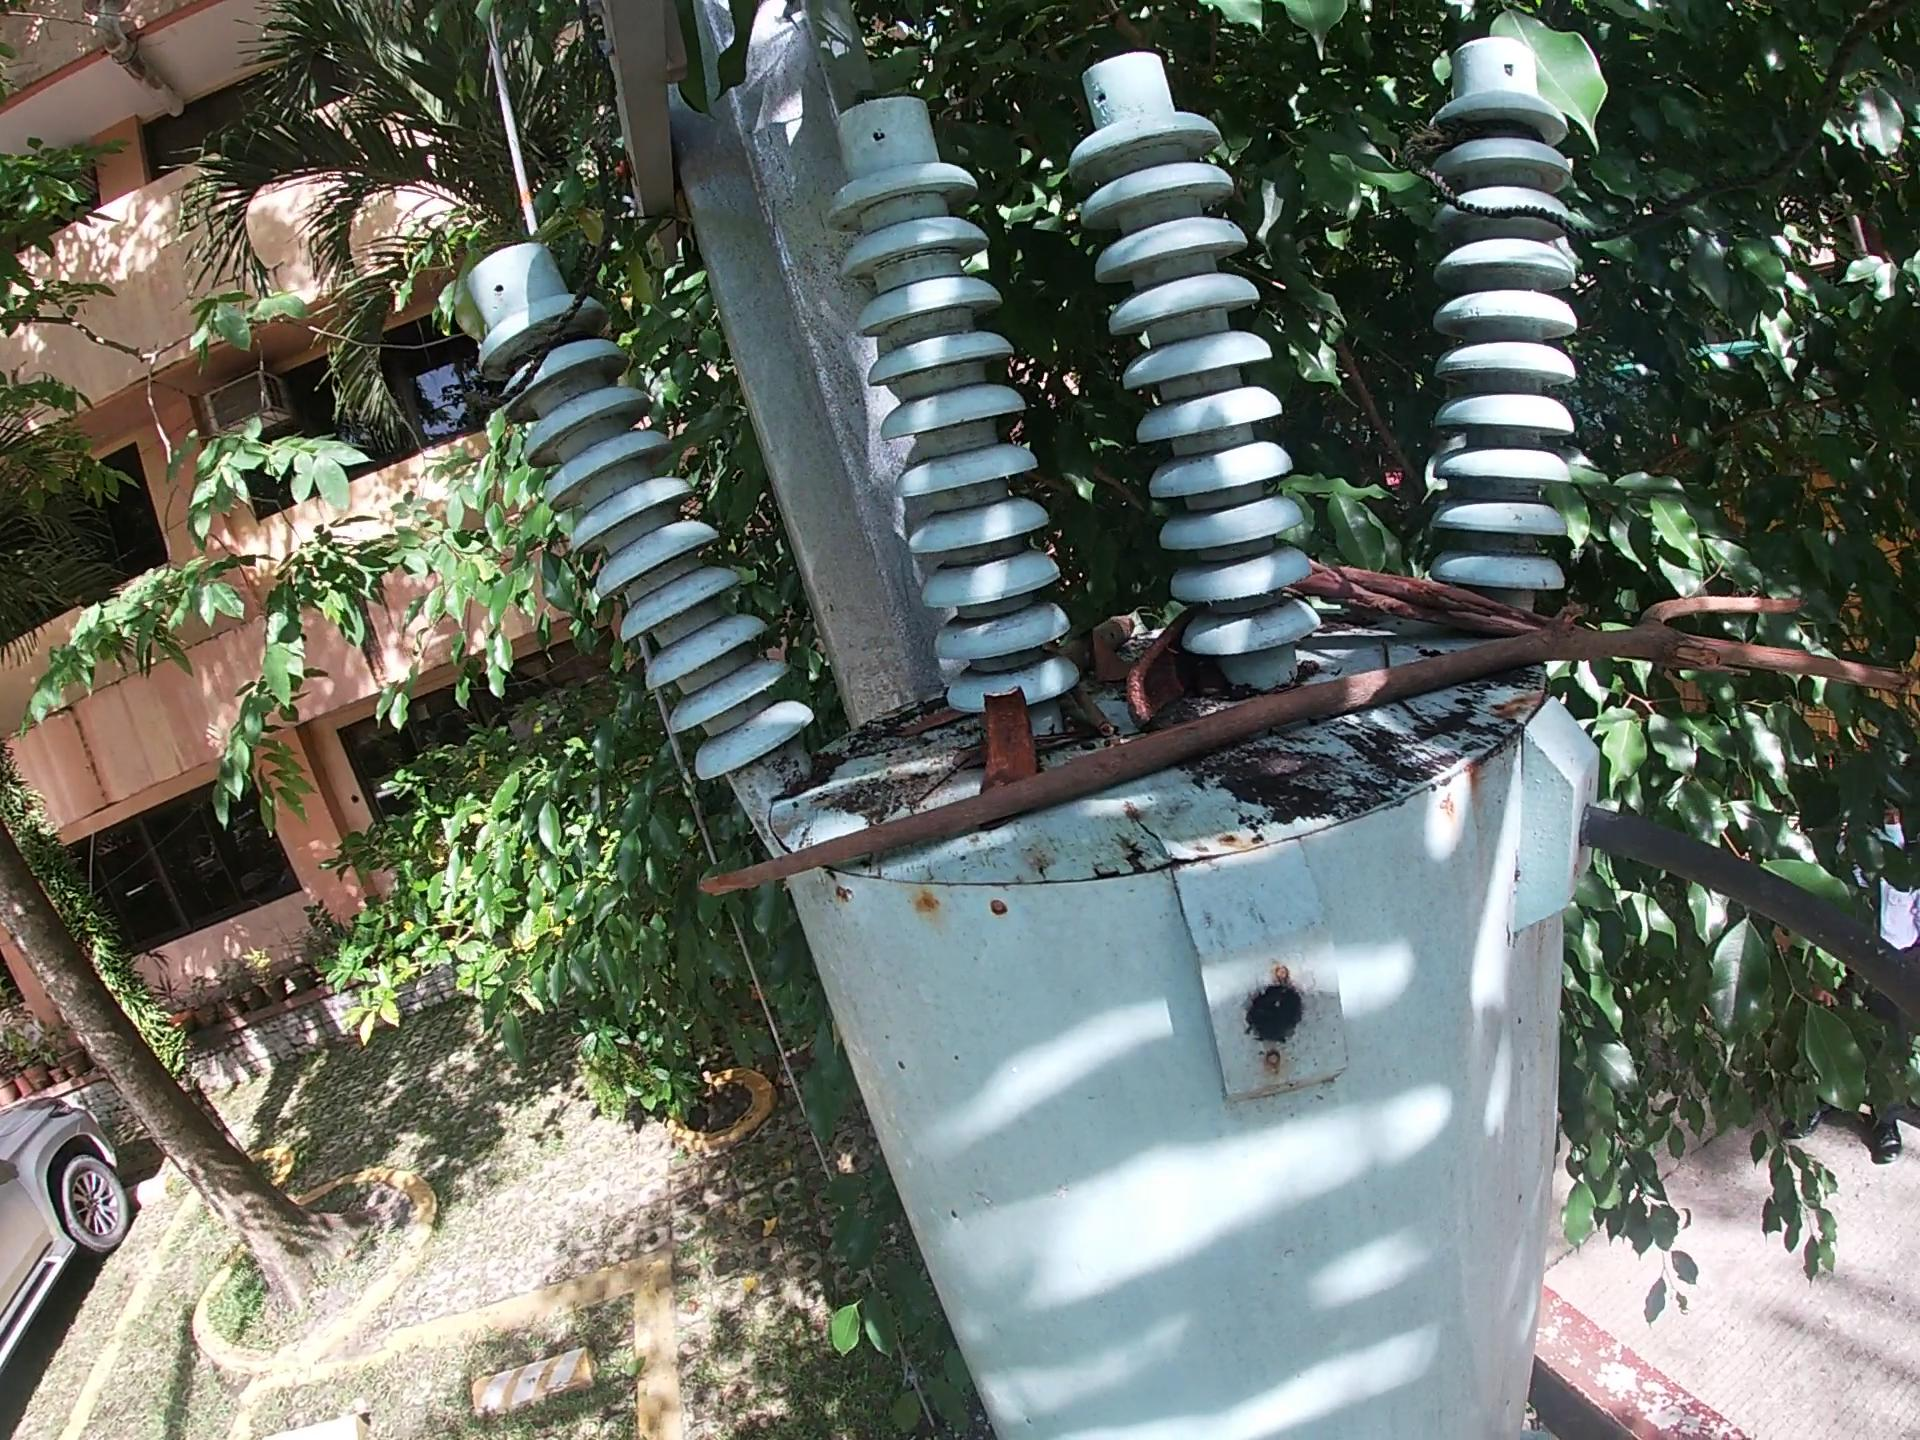leaf: (1085, 626, 1132, 685)
mahogany fruit: (1120, 597, 1205, 738), (974, 682, 1043, 793)
tree branch: (688, 584, 1920, 915), (1288, 554, 1749, 684), (1055, 619, 1135, 684)
